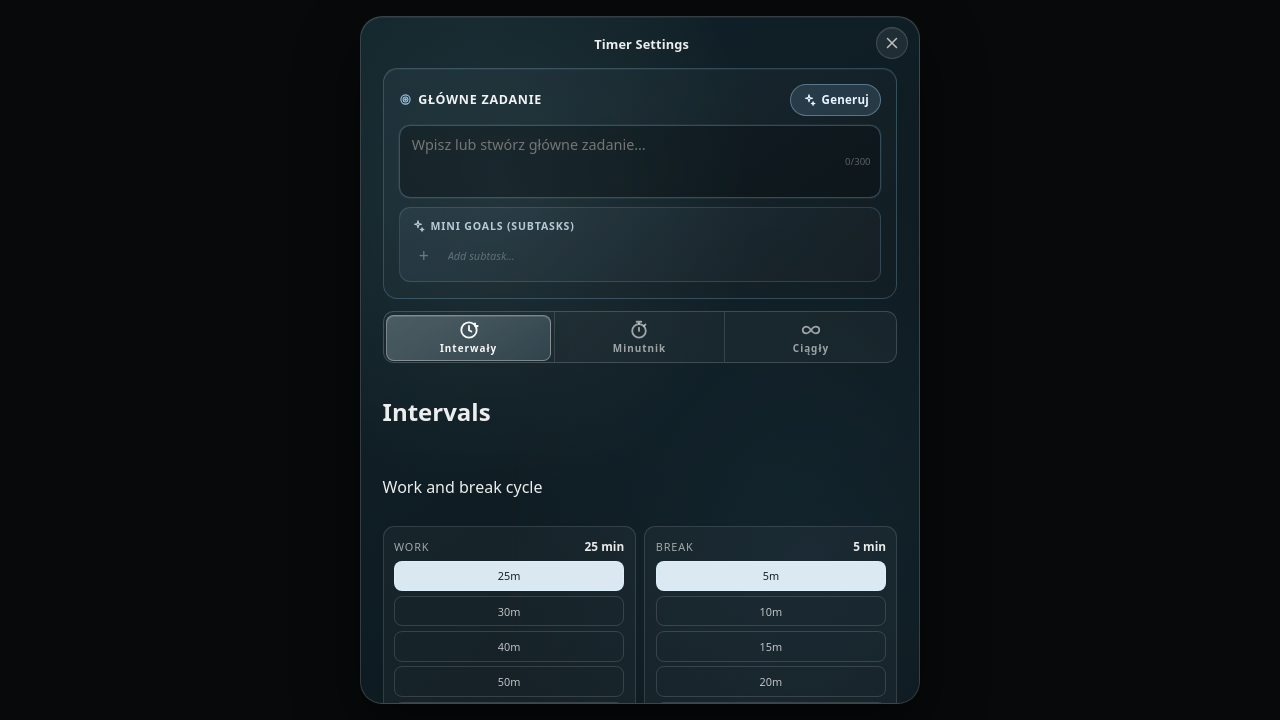
TimerSettings › blocks finite changes until a non-empty goal is entered
Click the button named "Work time 40 minutes" at (509, 646), box x1=394 y1=631 x2=624 y2=662
(page scrolled)
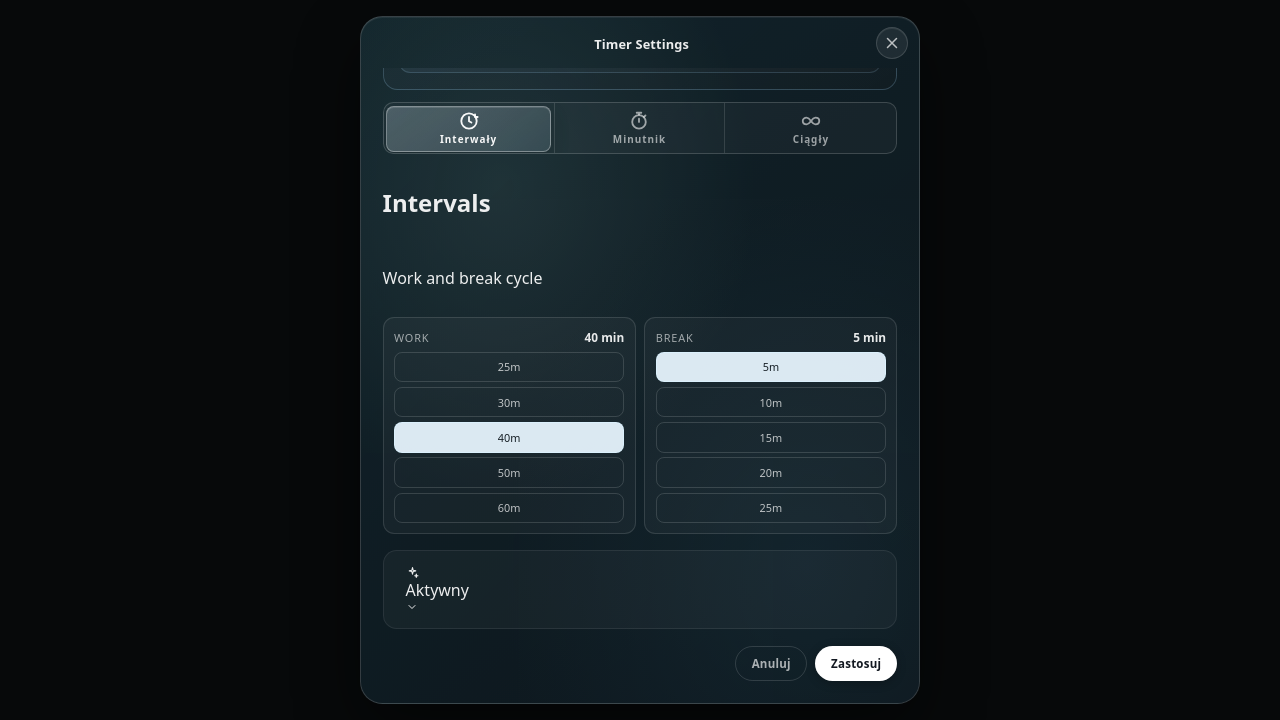
Click the button with aria-label "Apply timer settings" at (856, 664), box x1=815 y1=646 x2=897 y2=681
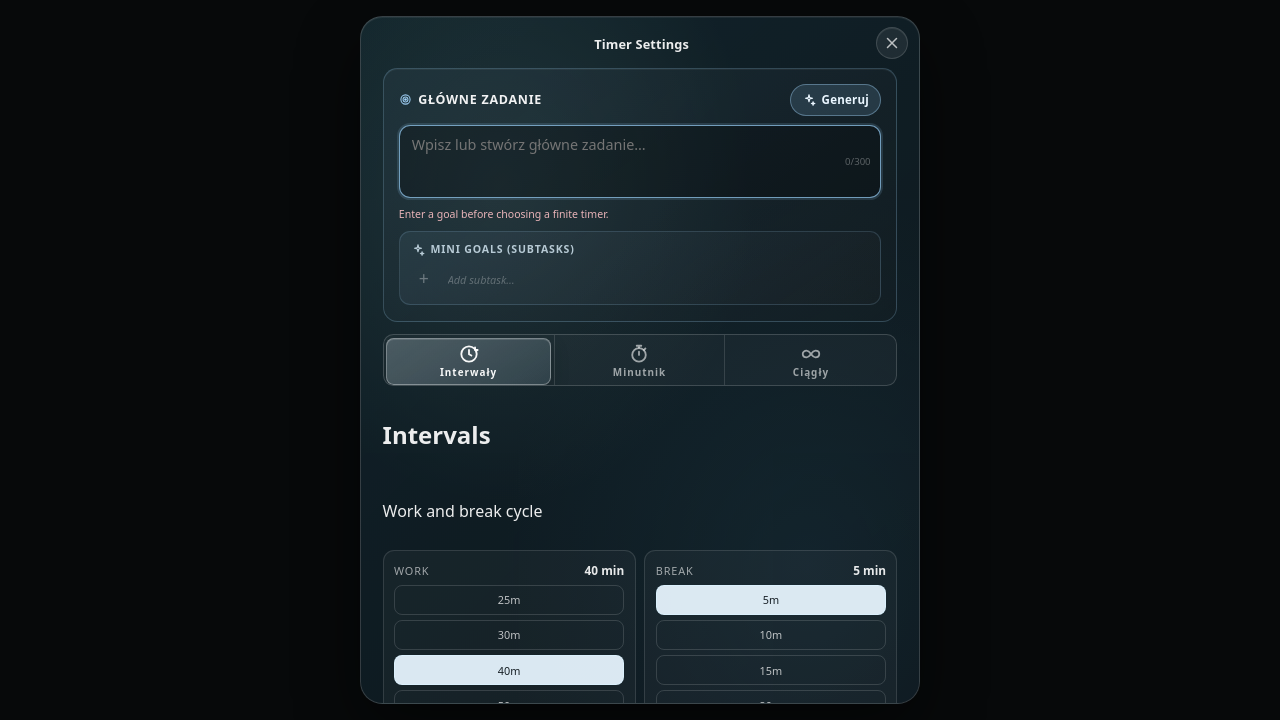
Result: the message reads "Enter a goal before choosing a finite timer." at x1=399 y1=207 x2=609 y2=221
